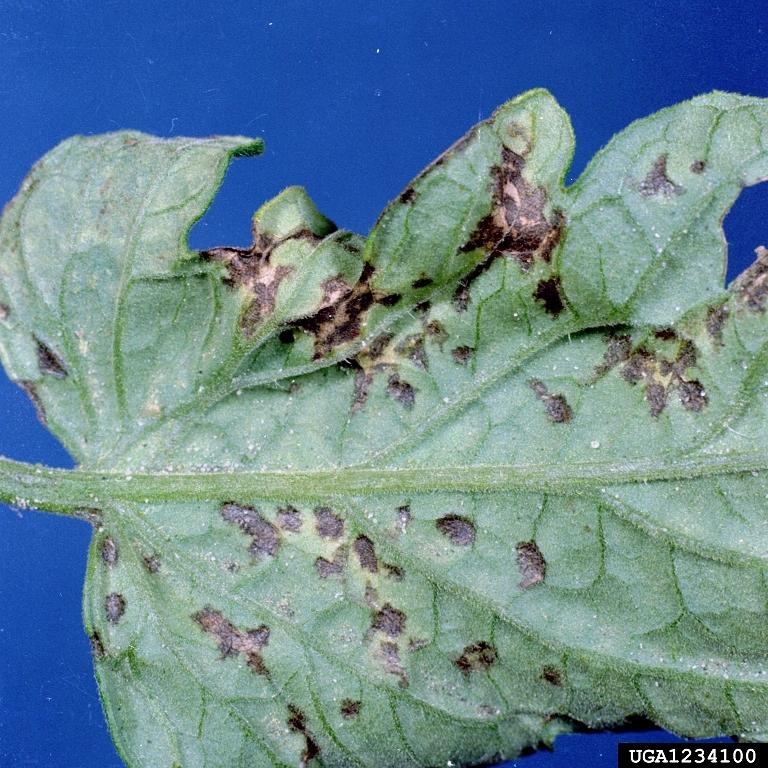Tomato leaf late blight: (8, 104, 768, 758)
